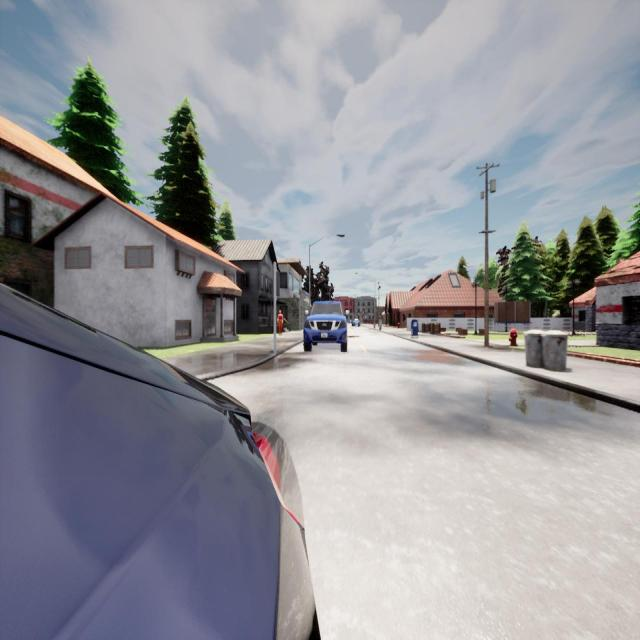Pedestrian: (277, 310, 284, 335)
Vehicle: (0, 285, 318, 638), (303, 301, 347, 351), (352, 318, 360, 326), (348, 318, 352, 325)
